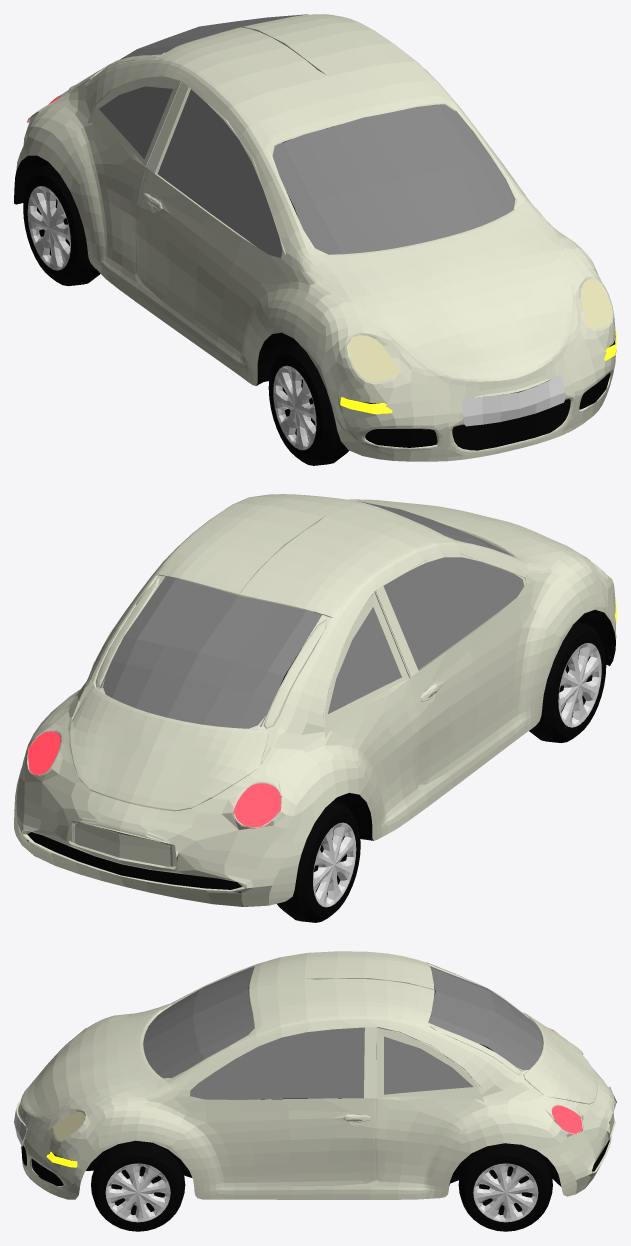
File: Car1.fbx
3 renders of one model, top to bottom at view 1: azimuth 30°, elevation 25°; view 2: azimuth 150°, elevation 25°; view 3: azimuth 270°, elevation 25°, orthographic. The views are drawn at different scales.
Visible parts, largest first — view 1: Body.001, Body, Wheel.003, Wheel.002, Body.008, Body.002, Body.004, Body.005, Body.003, Body.009, Body.006; view 2: Body.001, Body.009, Body, Body.002, Wheel.002, Wheel.003, Body.007, Body.008, Body.003; view 3: Body.001, Body, Wheel, Wheel.001, Body.009, Body.002, Body.003, Body.007, Body.008, Body.004.
Boxes of the visible parts, bbox=[...] form: Body.001: bbox=[15, 14, 616, 461]; Body: bbox=[99, 86, 514, 257]; Wheel.003: bbox=[268, 343, 349, 465]; Wheel.002: bbox=[23, 164, 100, 286]; Body.008: bbox=[365, 372, 610, 450]; Body.002: bbox=[87, 14, 525, 257]; Body.004: bbox=[345, 279, 612, 381]; Body.005: bbox=[461, 374, 565, 426]; Body.003: bbox=[14, 126, 615, 403]; Body.009: bbox=[120, 14, 307, 59]; Body.006: bbox=[340, 331, 616, 414]; Body.001: bbox=[14, 494, 616, 906]; Body.009: bbox=[100, 576, 321, 728]; Body: bbox=[328, 501, 523, 713]; Body.002: bbox=[66, 515, 526, 870]; Wheel.002: bbox=[277, 800, 360, 922]; Wheel.003: bbox=[529, 620, 606, 742]; Body.007: bbox=[27, 731, 281, 827]; Body.008: bbox=[27, 832, 241, 892]; Body.003: bbox=[43, 609, 615, 906]; Body.001: bbox=[16, 951, 614, 1199]; Body: bbox=[143, 967, 473, 1099]; Wheel: bbox=[91, 1141, 185, 1231]; Wheel.001: bbox=[458, 1143, 552, 1231]; Body.009: bbox=[428, 966, 542, 1071]; Body.002: bbox=[258, 962, 616, 1143]; Body.003: bbox=[53, 1044, 561, 1186]; Body.007: bbox=[552, 1029, 582, 1134]; Body.008: bbox=[21, 1122, 609, 1185]; Body.004: bbox=[52, 1112, 84, 1141].
Bounding box in the file's own units: 131 × 118 × 314.
